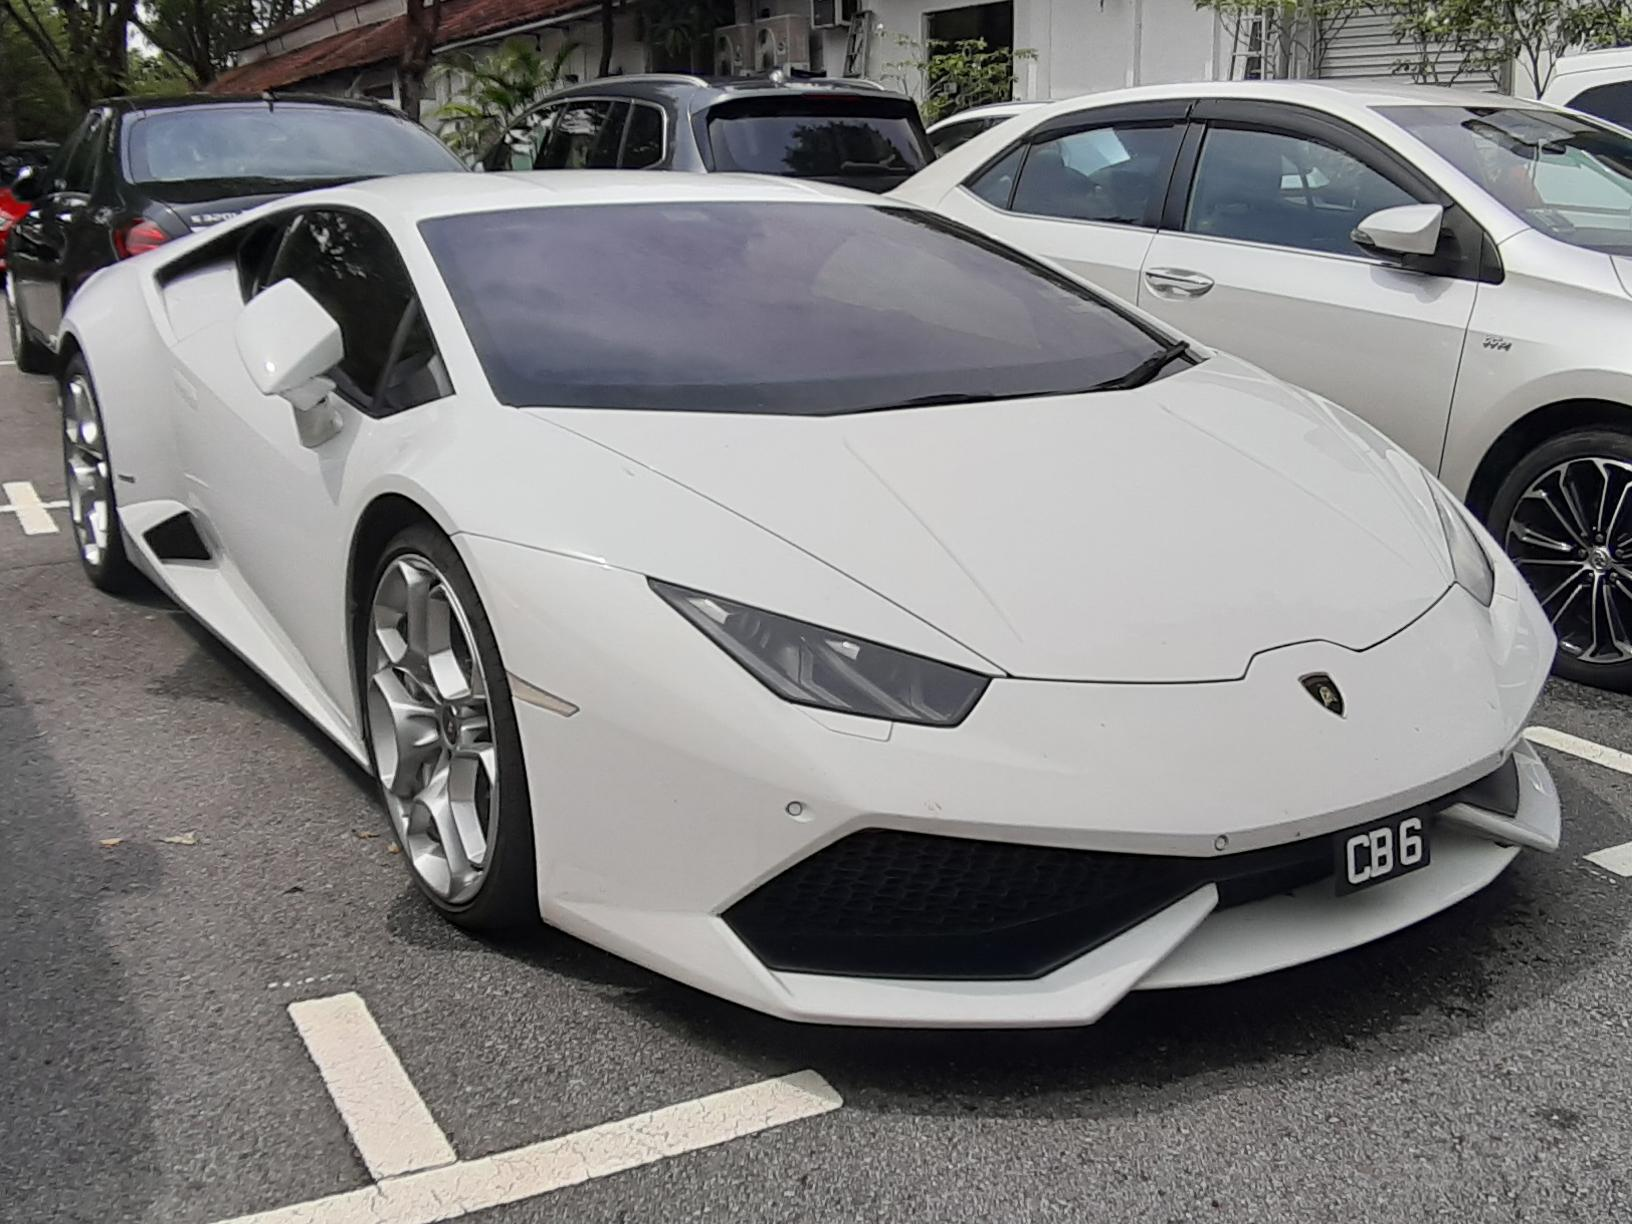License Plate: (1335, 809, 1435, 896)
